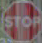Stop: (3, 2, 41, 37)
